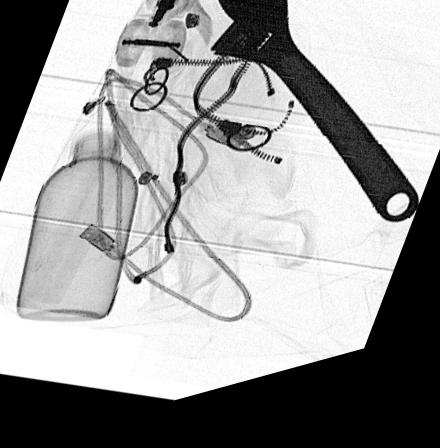Wrench: (207, 0, 421, 245)
